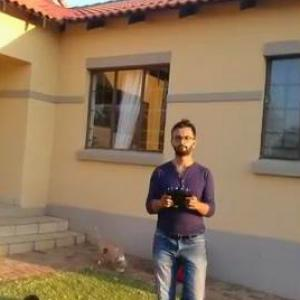follow: (132, 115, 217, 299)
null: (86, 220, 131, 276), (6, 291, 44, 299)
